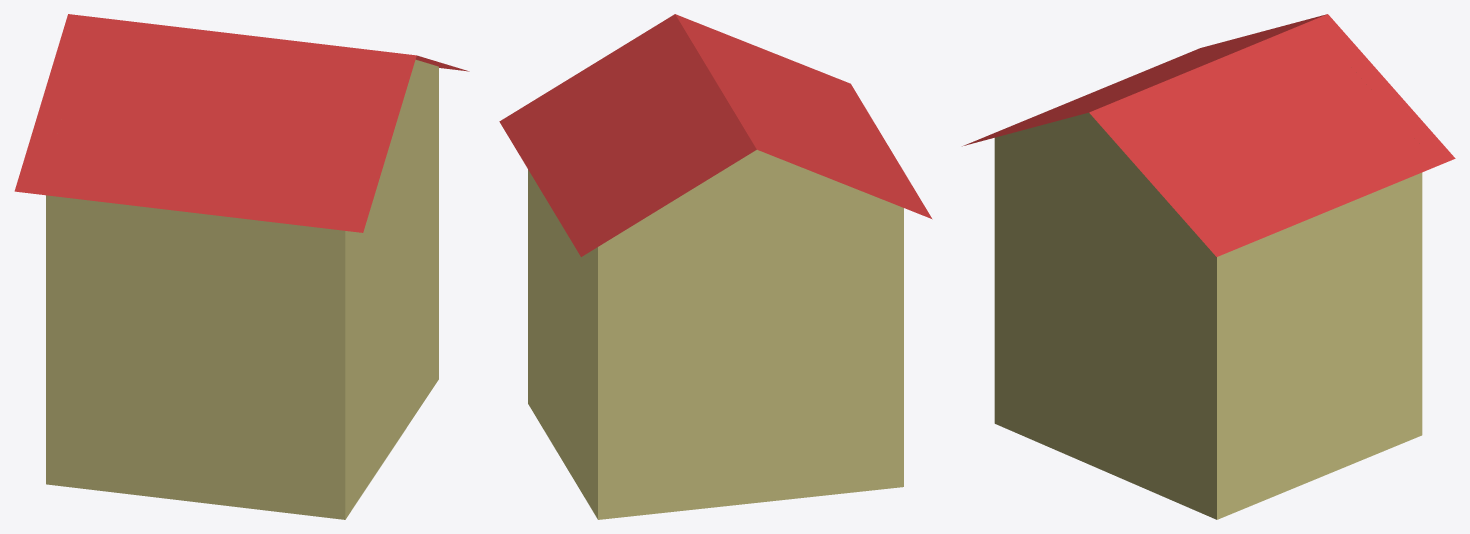
3 views of the same model, side by side, from view 1: azimuth 30°, elevation 25°; view 2: azimuth 150°, elevation 25°; view 3: azimuth 270°, elevation 25° (orthographic). The views are drawn at different scales.
Size of the model in its own units: 10.46 by 10.44 by 8.54.
